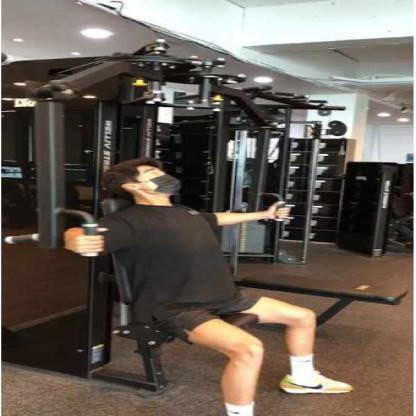chest fly machine: (0, 32, 416, 416)
